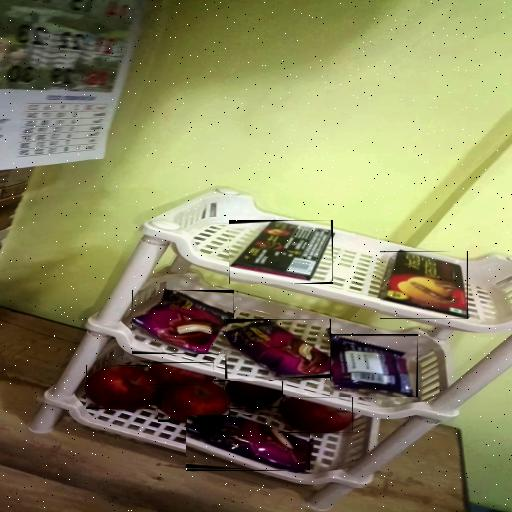Apple: (86, 365, 162, 409), (158, 380, 230, 422), (278, 397, 353, 433), (225, 382, 283, 410), (148, 362, 214, 385)
Choco Fills: (229, 220, 333, 284), (380, 251, 468, 319)
Choco Pie: (186, 416, 310, 472), (132, 290, 234, 354), (224, 320, 330, 380), (330, 334, 418, 397)
